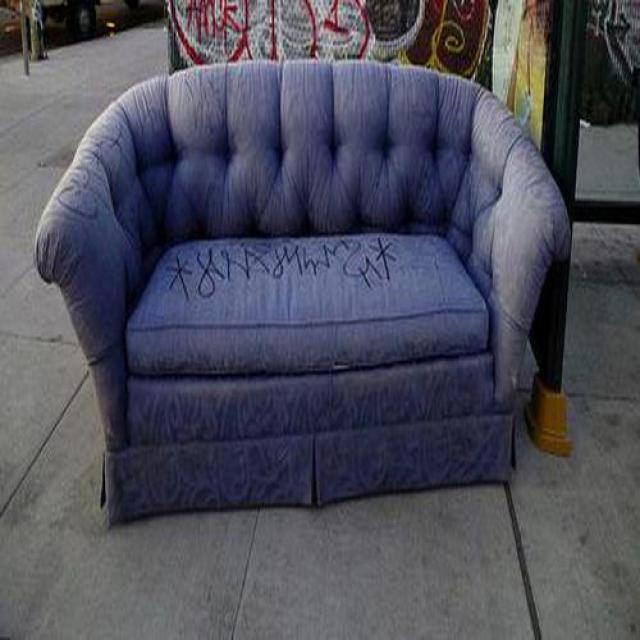sofa: (32, 60, 571, 529)
